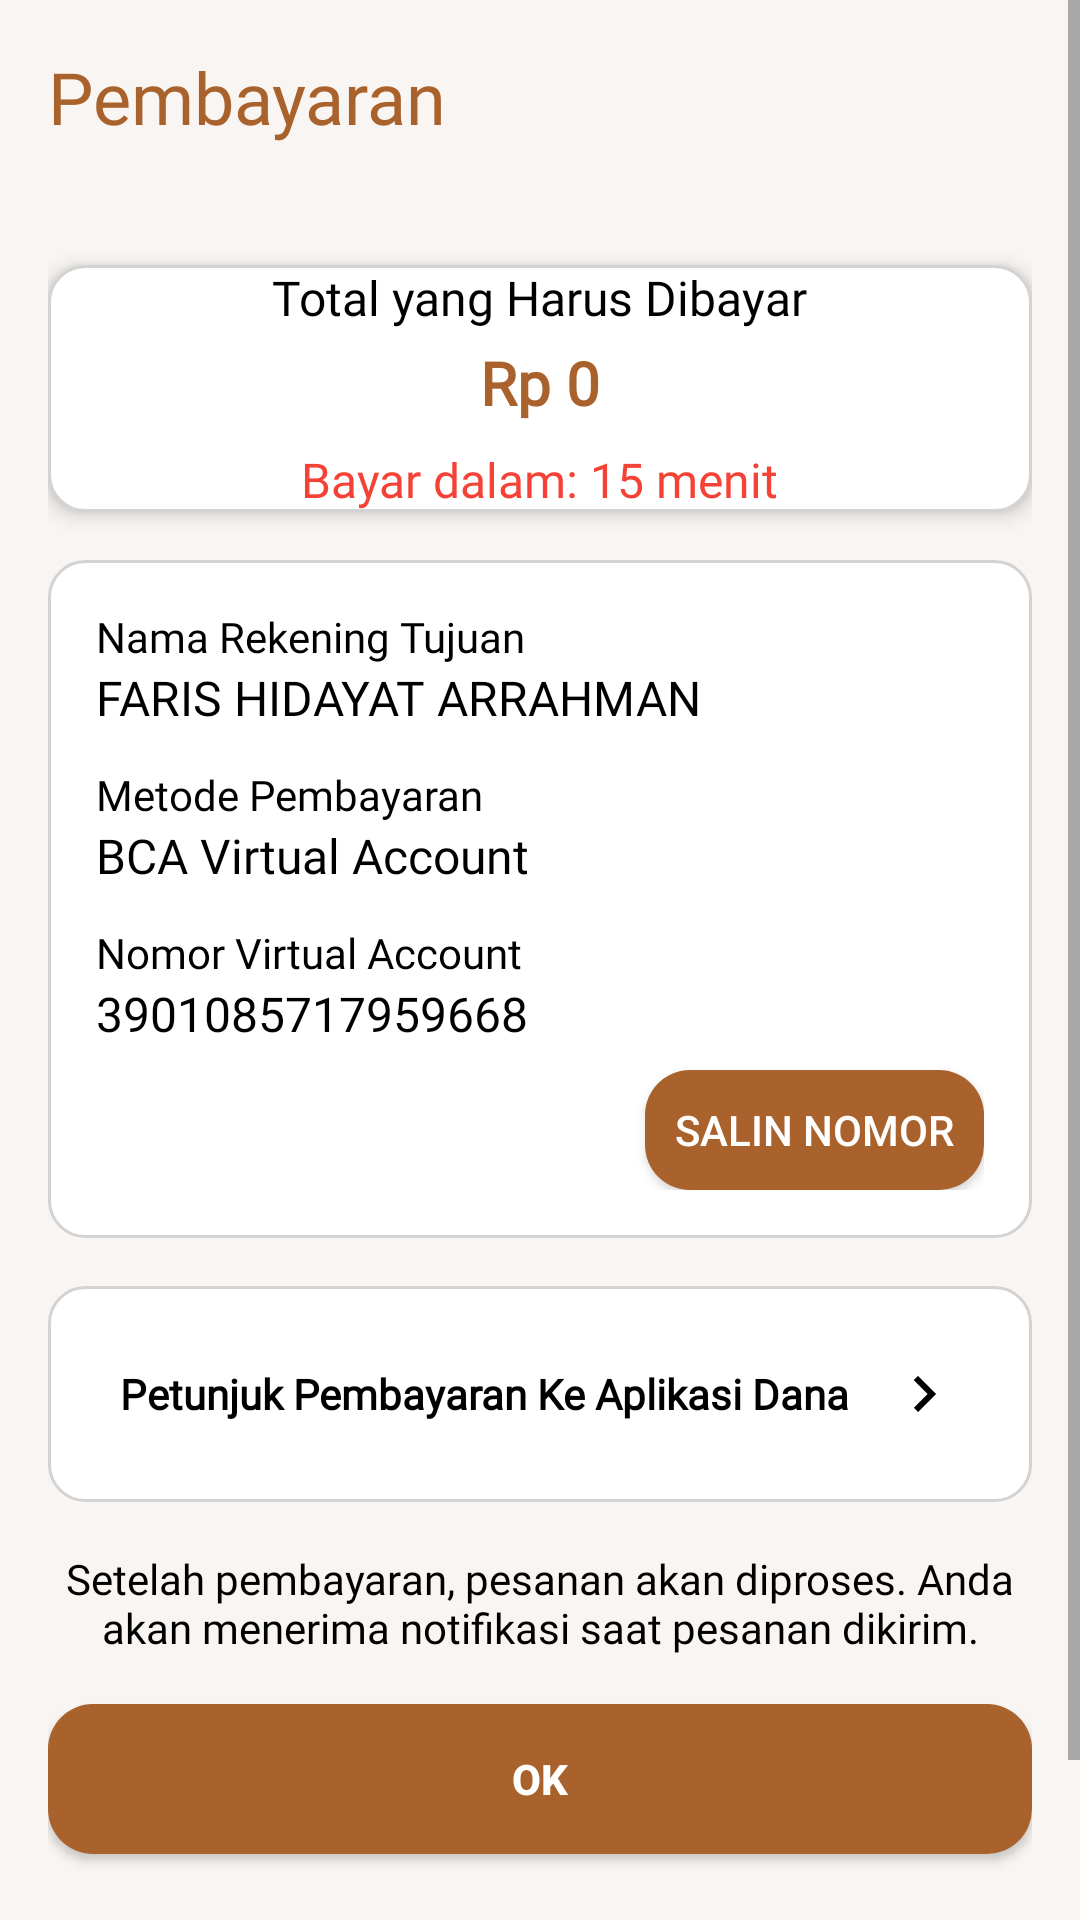

Named icons in this screenshot (1080 × 1920) and their centers, (x=x, y=y):
Expand: (x=925, y=1394)
